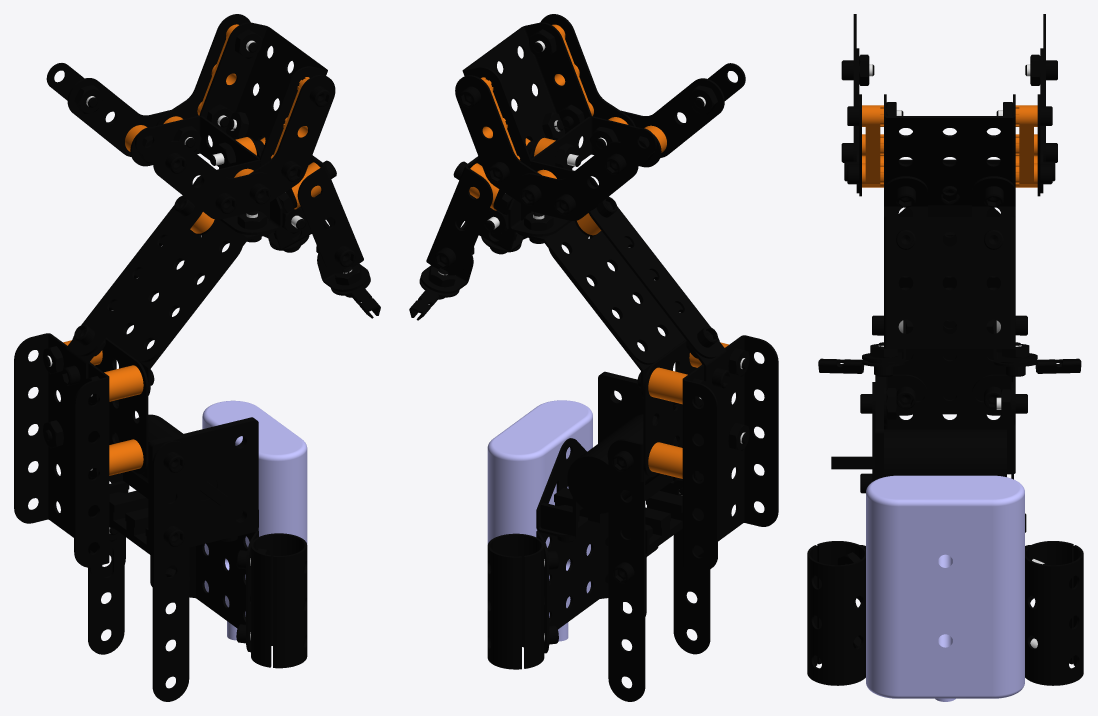
3 views of the same model, side by side, from view 1: azimuth 30°, elevation 25°; view 2: azimuth 150°, elevation 25°; view 3: azimuth 270°, elevation 25° (orthographic). The views are drawn at different scales.
Visible parts, largest first — view 1: matte zinc, polished nickel, matte zinc-4, cast iron, white-pw-mt11050, white-pw-mt11050-2, white-pw-mt11050-3; view 2: matte zinc, polished nickel, matte zinc-4, cast iron, white-pw-mt11050, white-pw-mt11050-2, white-pw-mt11050-3; view 3: matte zinc, white-pw-mt11050, polished nickel, cast iron, white-pw-mt11050-3, matte zinc-4, polished bronze.
Part boxes in pixels (<box>): matte zinc: <box>43,14,380,701</box>; polished nickel: <box>14,22,363,567</box>; matte zinc-4: <box>106,218,273,652</box>; cast iron: <box>109,414,258,556</box>; white-pw-mt11050: <box>202,400,307,640</box>; white-pw-mt11050-2: <box>63,116,321,475</box>; white-pw-mt11050-3: <box>197,24,309,158</box>; matte zinc: <box>409,14,749,701</box>; polished nickel: <box>426,22,778,571</box>; matte zinc-4: <box>518,219,685,653</box>; cast iron: <box>540,371,682,553</box>; white-pw-mt11050: <box>487,400,592,641</box>; white-pw-mt11050-2: <box>469,117,728,478</box>; white-pw-mt11050-3: <box>481,24,593,159</box>; matte zinc: <box>807,14,1083,685</box>; white-pw-mt11050: <box>866,475,1024,701</box>; polished nickel: <box>884,94,1015,474</box>; cast iron: <box>875,376,1006,479</box>; white-pw-mt11050-3: <box>862,105,1037,185</box>; matte zinc-4: <box>853,276,1037,638</box>; polished bronze: <box>831,456,875,469</box>.
Size of the model in its own units: 10.49 by 20.41 by 7.99.
